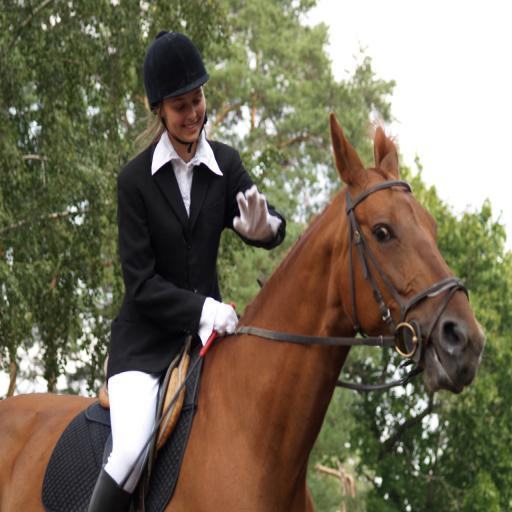horse: (0, 111, 487, 512)
